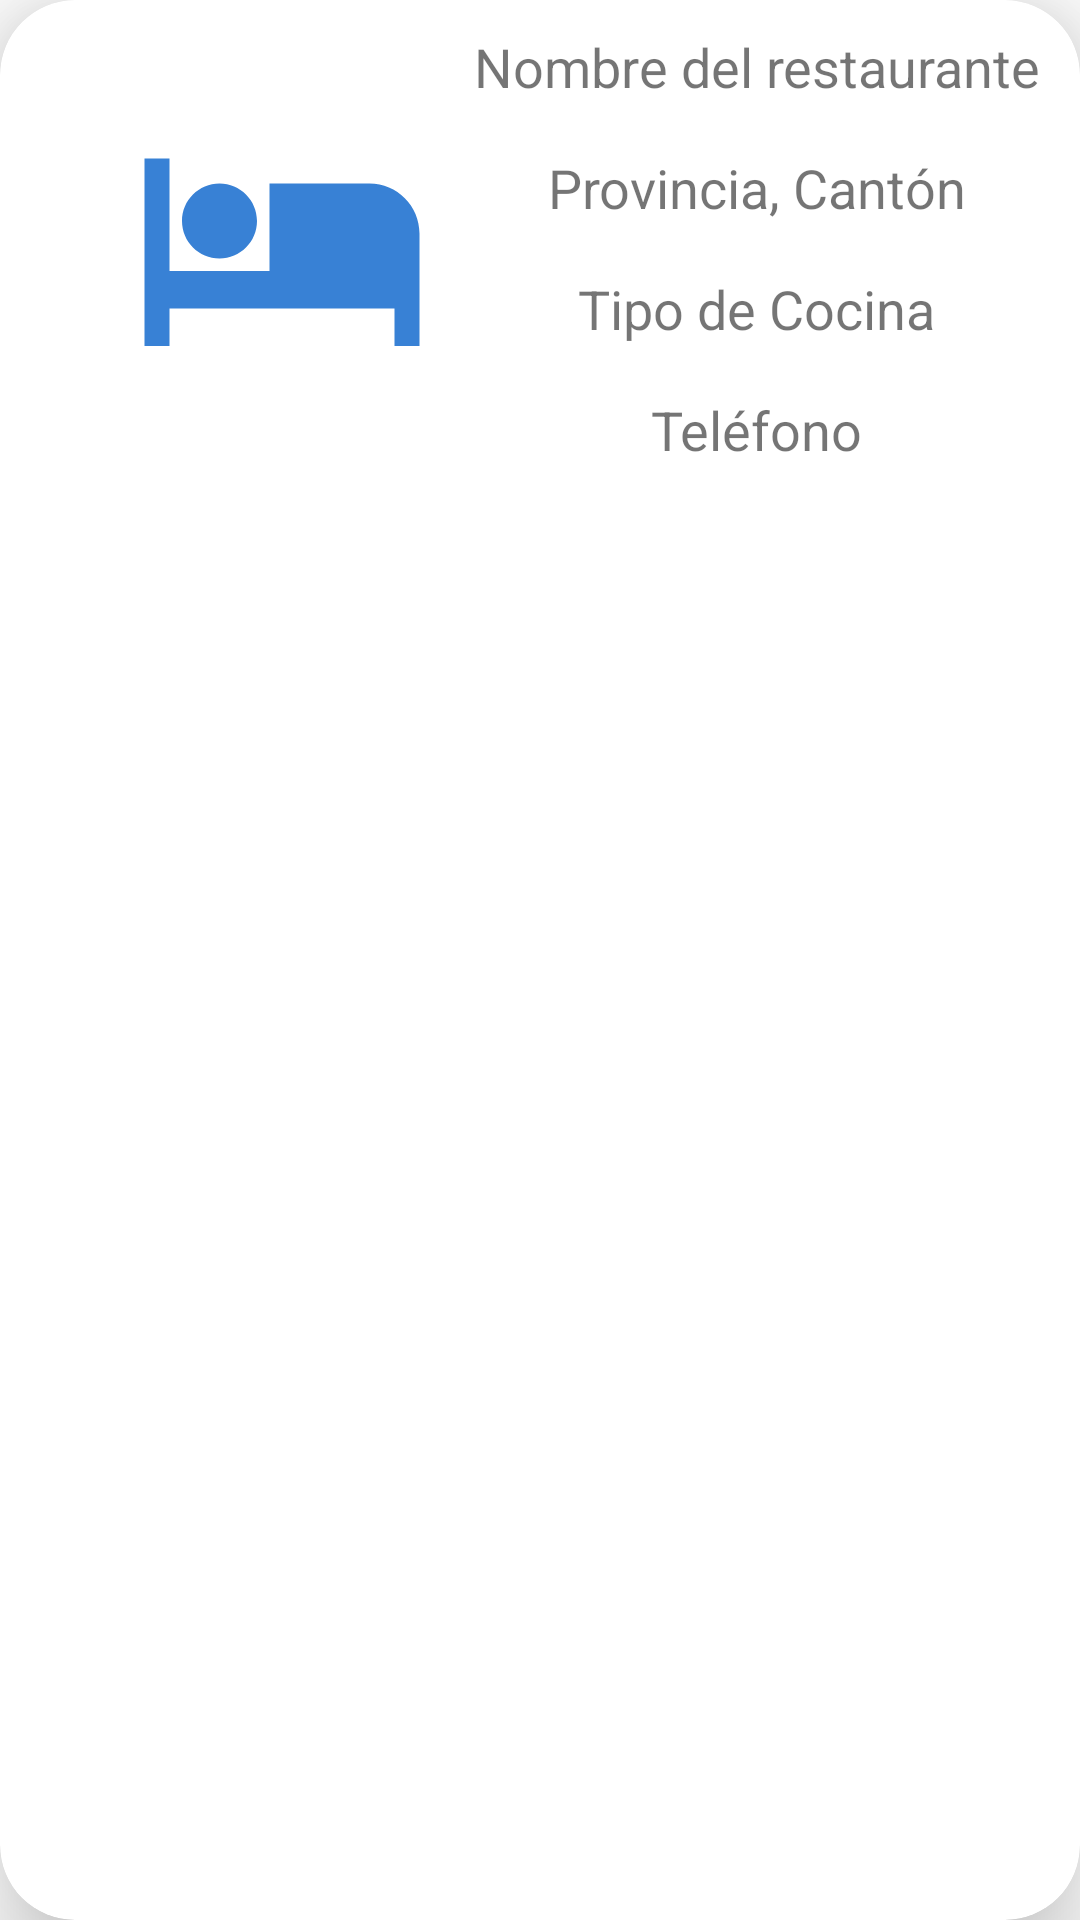

Where icons sit on this 1080×1920 app screen, as bbox=[x1, y1, x2, y2]:
hotel: bbox=[144, 158, 420, 346]
